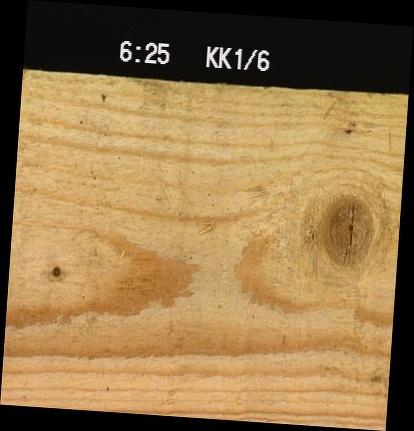small_knot: (47, 262, 64, 278)
sound_knot: (311, 189, 380, 273)
